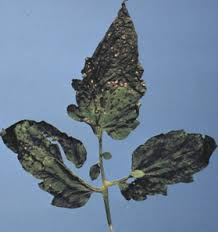Diseased_Leaves: (1, 125, 80, 170), (100, 24, 138, 101), (139, 143, 204, 183), (78, 105, 138, 133), (51, 179, 87, 205)
